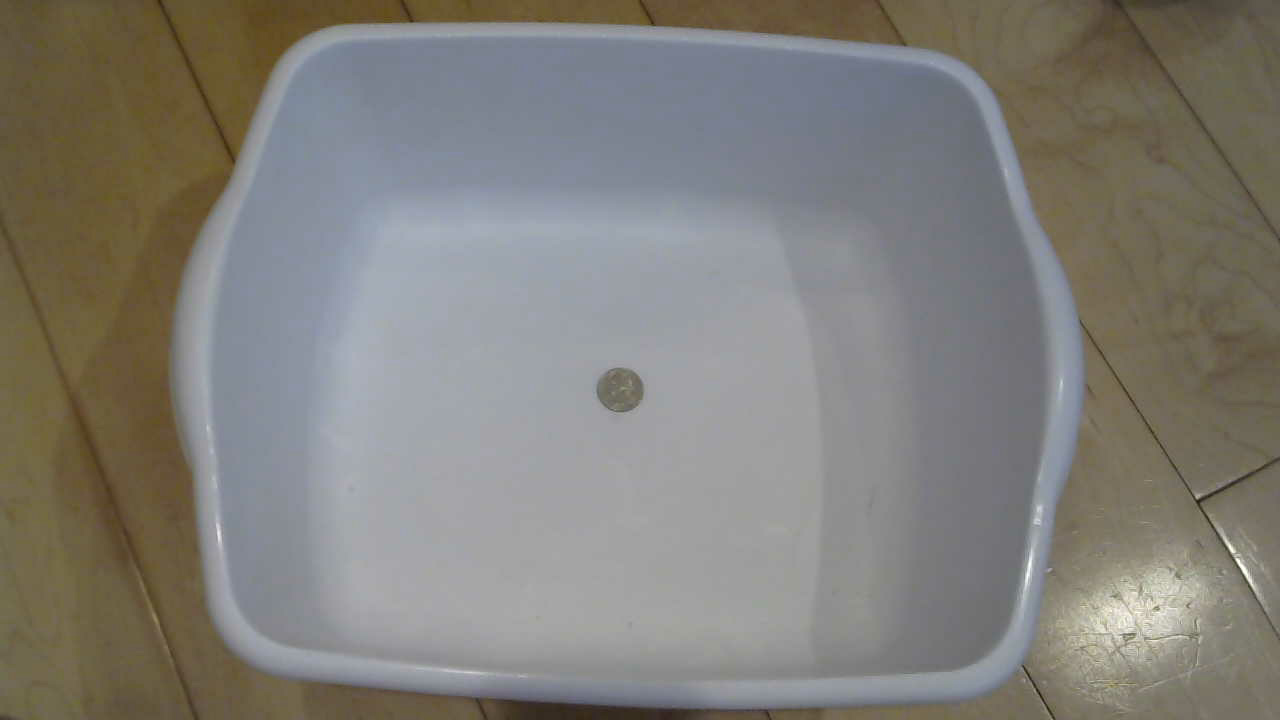coin: (591, 363, 655, 422)
